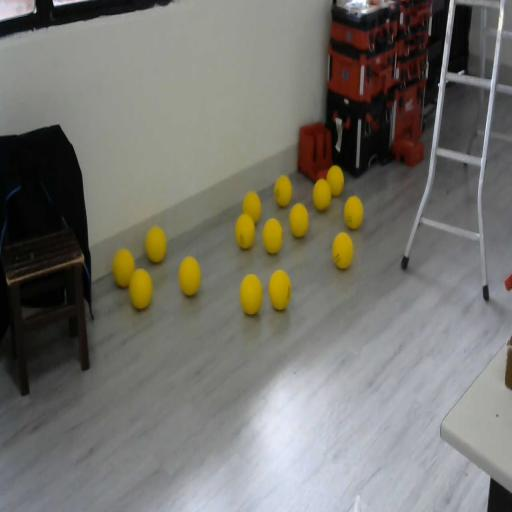FUEL: (239, 272, 264, 316), (128, 267, 153, 310), (178, 254, 202, 296), (268, 269, 292, 311), (112, 248, 135, 287), (332, 232, 354, 269), (262, 217, 283, 254), (145, 226, 166, 263), (343, 195, 364, 230), (242, 190, 262, 224), (312, 177, 332, 211), (290, 204, 308, 238), (274, 174, 292, 207), (326, 165, 344, 196)
